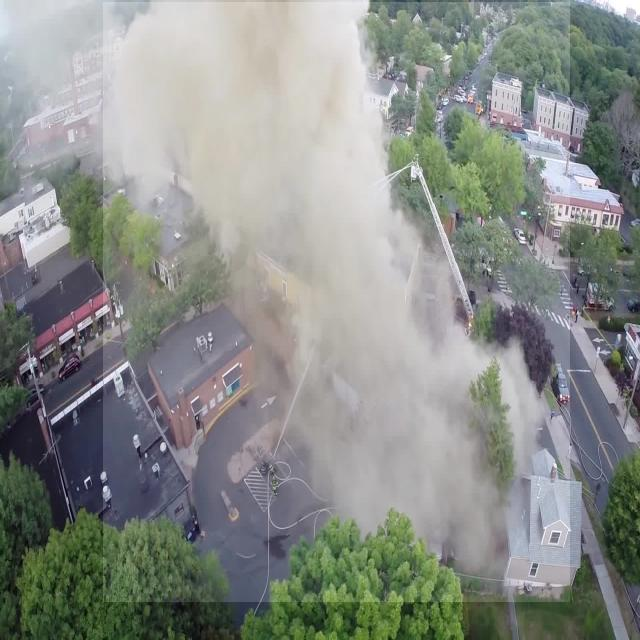Smoke: (103, 2, 570, 602)
